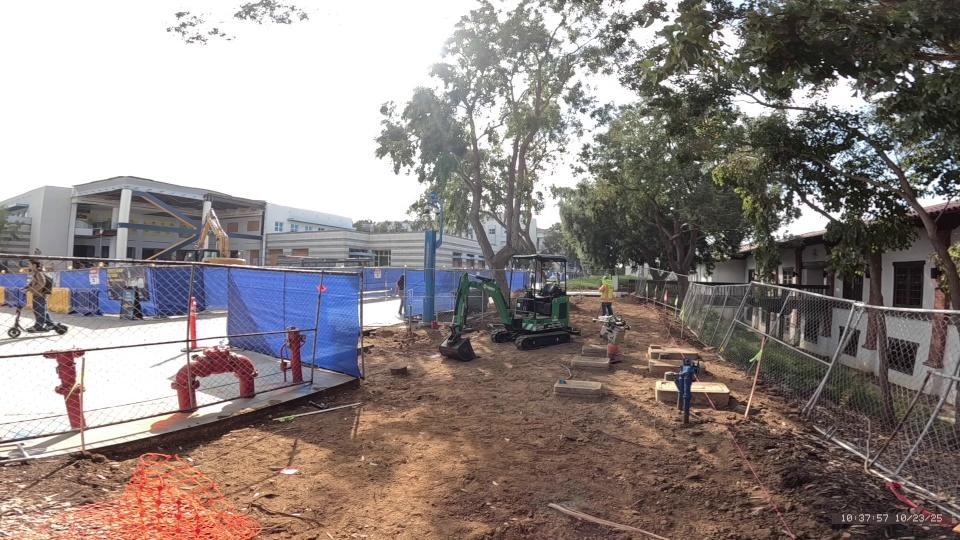Exacavator: (437, 252, 581, 361)
